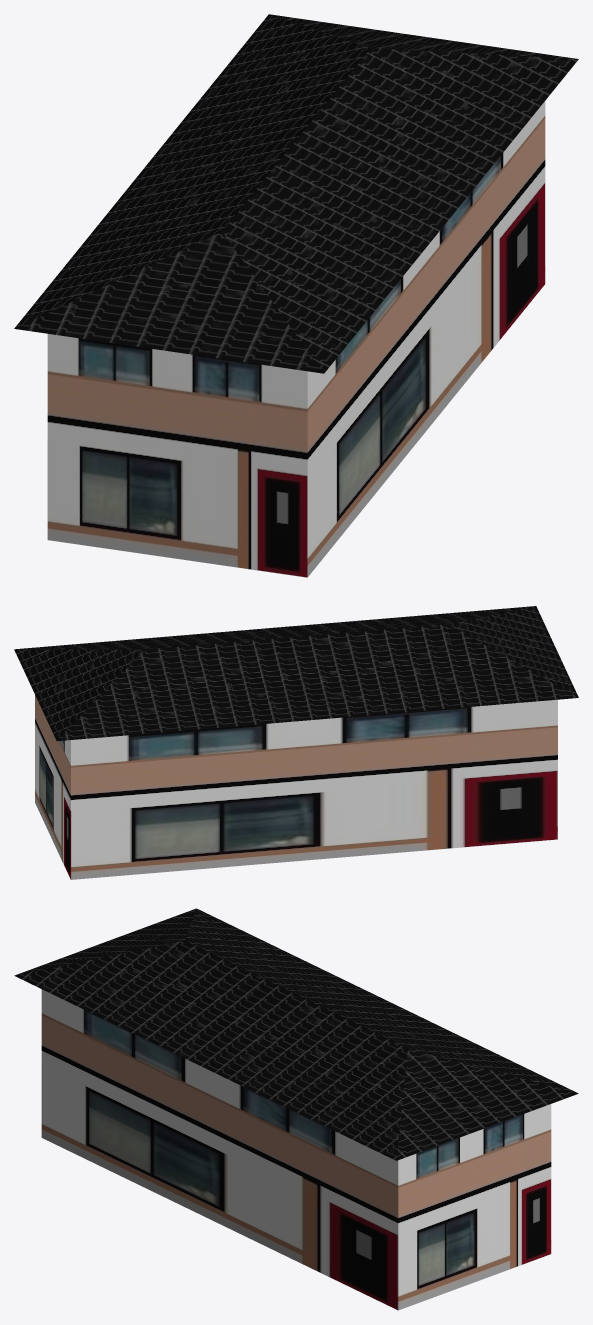
3 views of the same model, one above another, from view 1: azimuth 30°, elevation 25°; view 2: azimuth 150°, elevation 25°; view 3: azimuth 270°, elevation 25° (orthographic). The views are drawn at different scales.
Parts seen in each view (by area): view 1: CityEngineMaterial_14_m, CityEngineMaterial_5_m; view 2: CityEngineMaterial_5_m, CityEngineMaterial_14_m; view 3: CityEngineMaterial_5_m, CityEngineMaterial_14_m.
Boxes of the visible parts, box(x1,y1,x2,y2) form: CityEngineMaterial_14_m: box(14, 14, 578, 373); CityEngineMaterial_5_m: box(47, 101, 545, 577); CityEngineMaterial_5_m: box(35, 695, 557, 879); CityEngineMaterial_14_m: box(14, 606, 578, 741); CityEngineMaterial_5_m: box(41, 989, 551, 1310); CityEngineMaterial_14_m: box(14, 908, 578, 1160).
Bounding box in the file's own units: 28.57 × 10.62 × 27.01.
